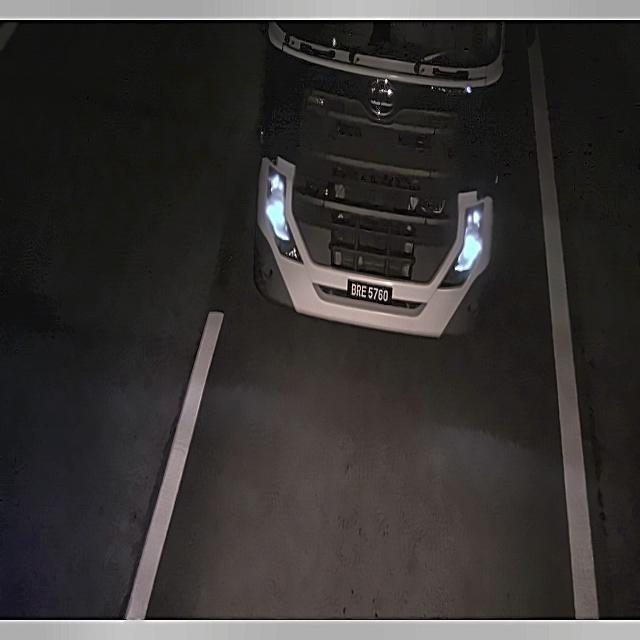car: (346, 275, 393, 314)
